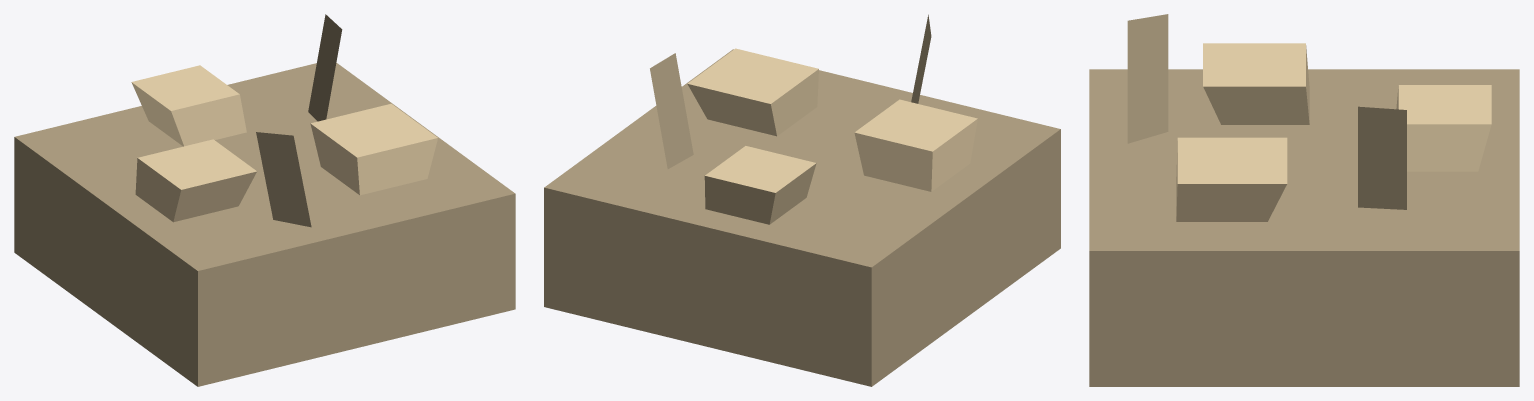
File: Trigo3.fbx
3 renders of one model, left to right at view 1: azimuth 30°, elevation 25°; view 2: azimuth 150°, elevation 25°; view 3: azimuth 270°, elevation 25°, orthographic. The views are drawn at different scales.
Parts seen in each view (by area): view 1: Cube.005; view 2: Cube.005; view 3: Cube.005.
Part boxes in pixels (x1=…): Cube.005: x1=14, y1=14, x2=515, y2=386; Cube.005: x1=544, y1=14, x2=1060, y2=386; Cube.005: x1=1089, y1=14, x2=1519, y2=386.
Size of the model in its own units: 485 by 327 by 485.
